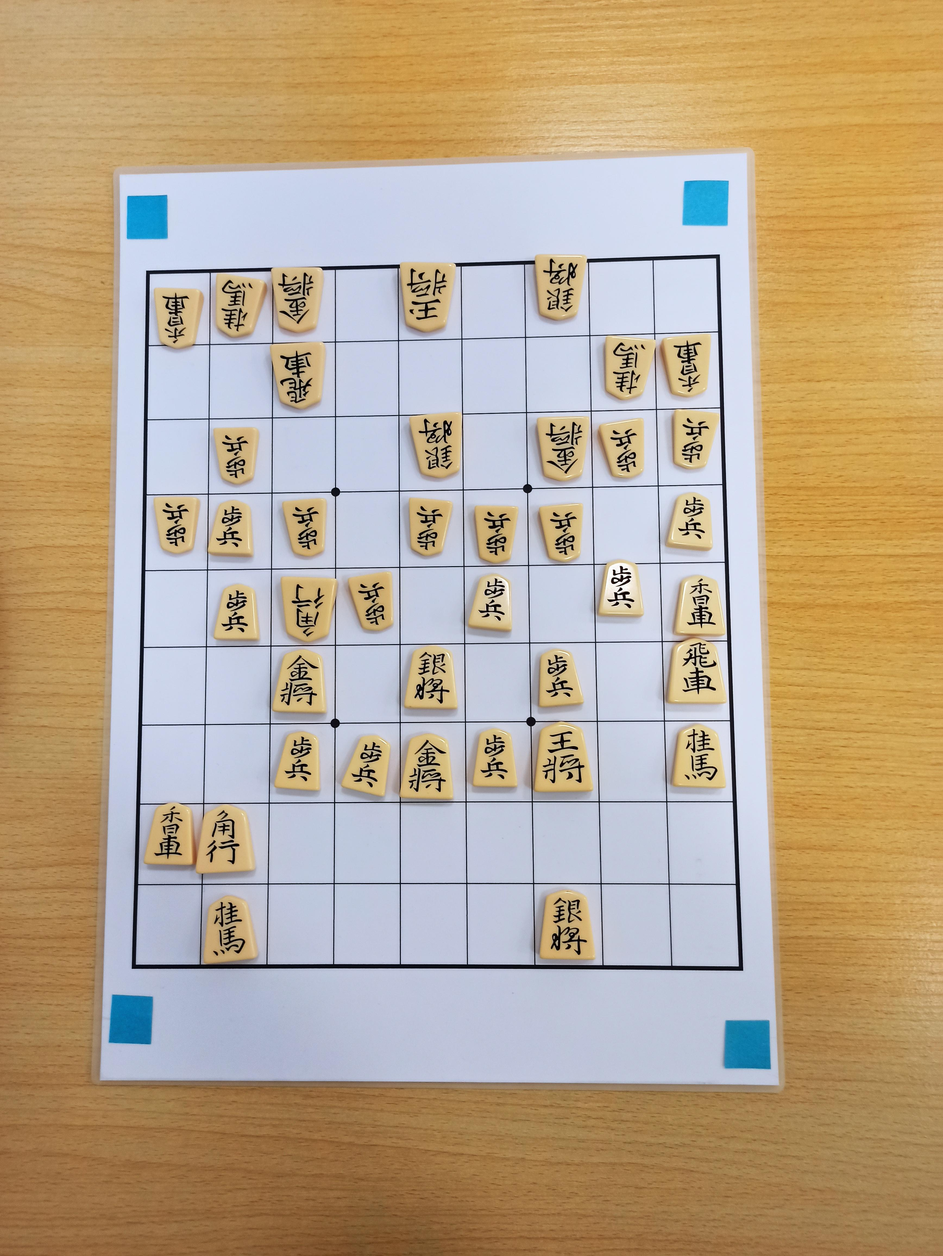board: (133, 256, 741, 968)
